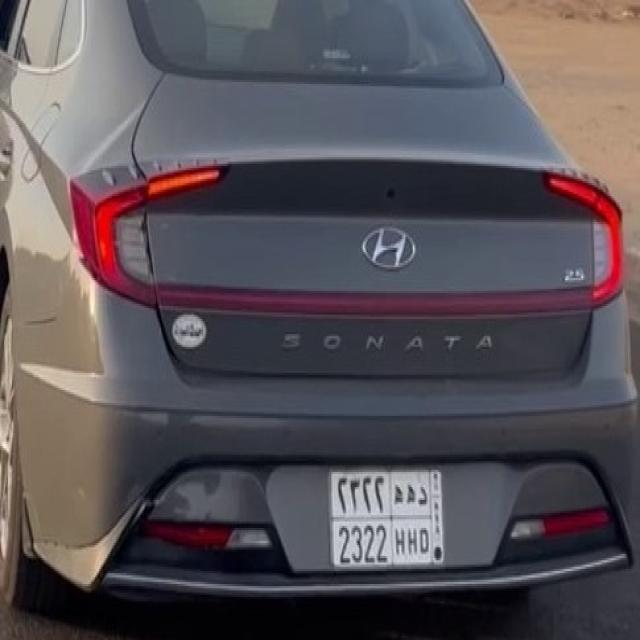Car-plate: (330, 469, 447, 574)
